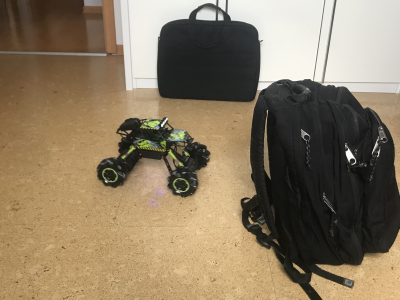remote control car: (95, 114, 211, 198)
